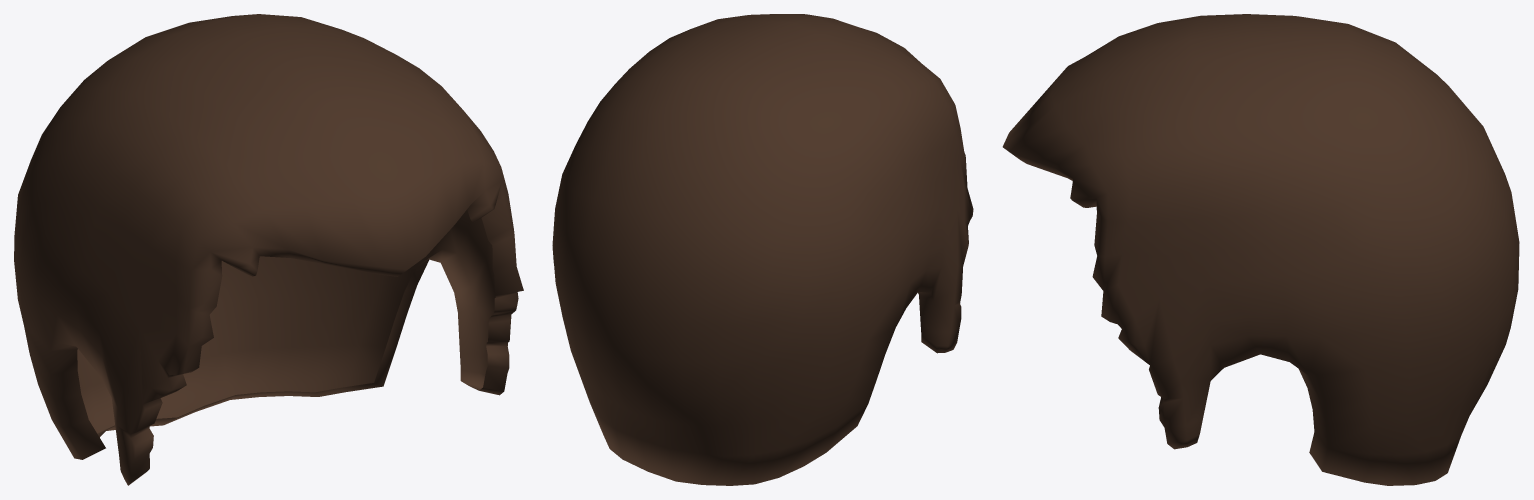
Rendered from hair-buzzed.glb.
3 views of the same model, side by side, from view 1: azimuth 30°, elevation 25°; view 2: azimuth 150°, elevation 25°; view 3: azimuth 270°, elevation 25° (orthographic). The views are drawn at different scales.
Visible parts, largest first — view 1: Hair_Buzzed; view 2: Hair_Buzzed; view 3: Hair_Buzzed.
Boxes of the visible parts, x1,y1,x2,y2 form: Hair_Buzzed: (14, 14, 523, 485); Hair_Buzzed: (552, 14, 973, 485); Hair_Buzzed: (1002, 14, 1519, 485).
Size of the model in its own units: 0.1546 by 0.1694 by 0.1909.
